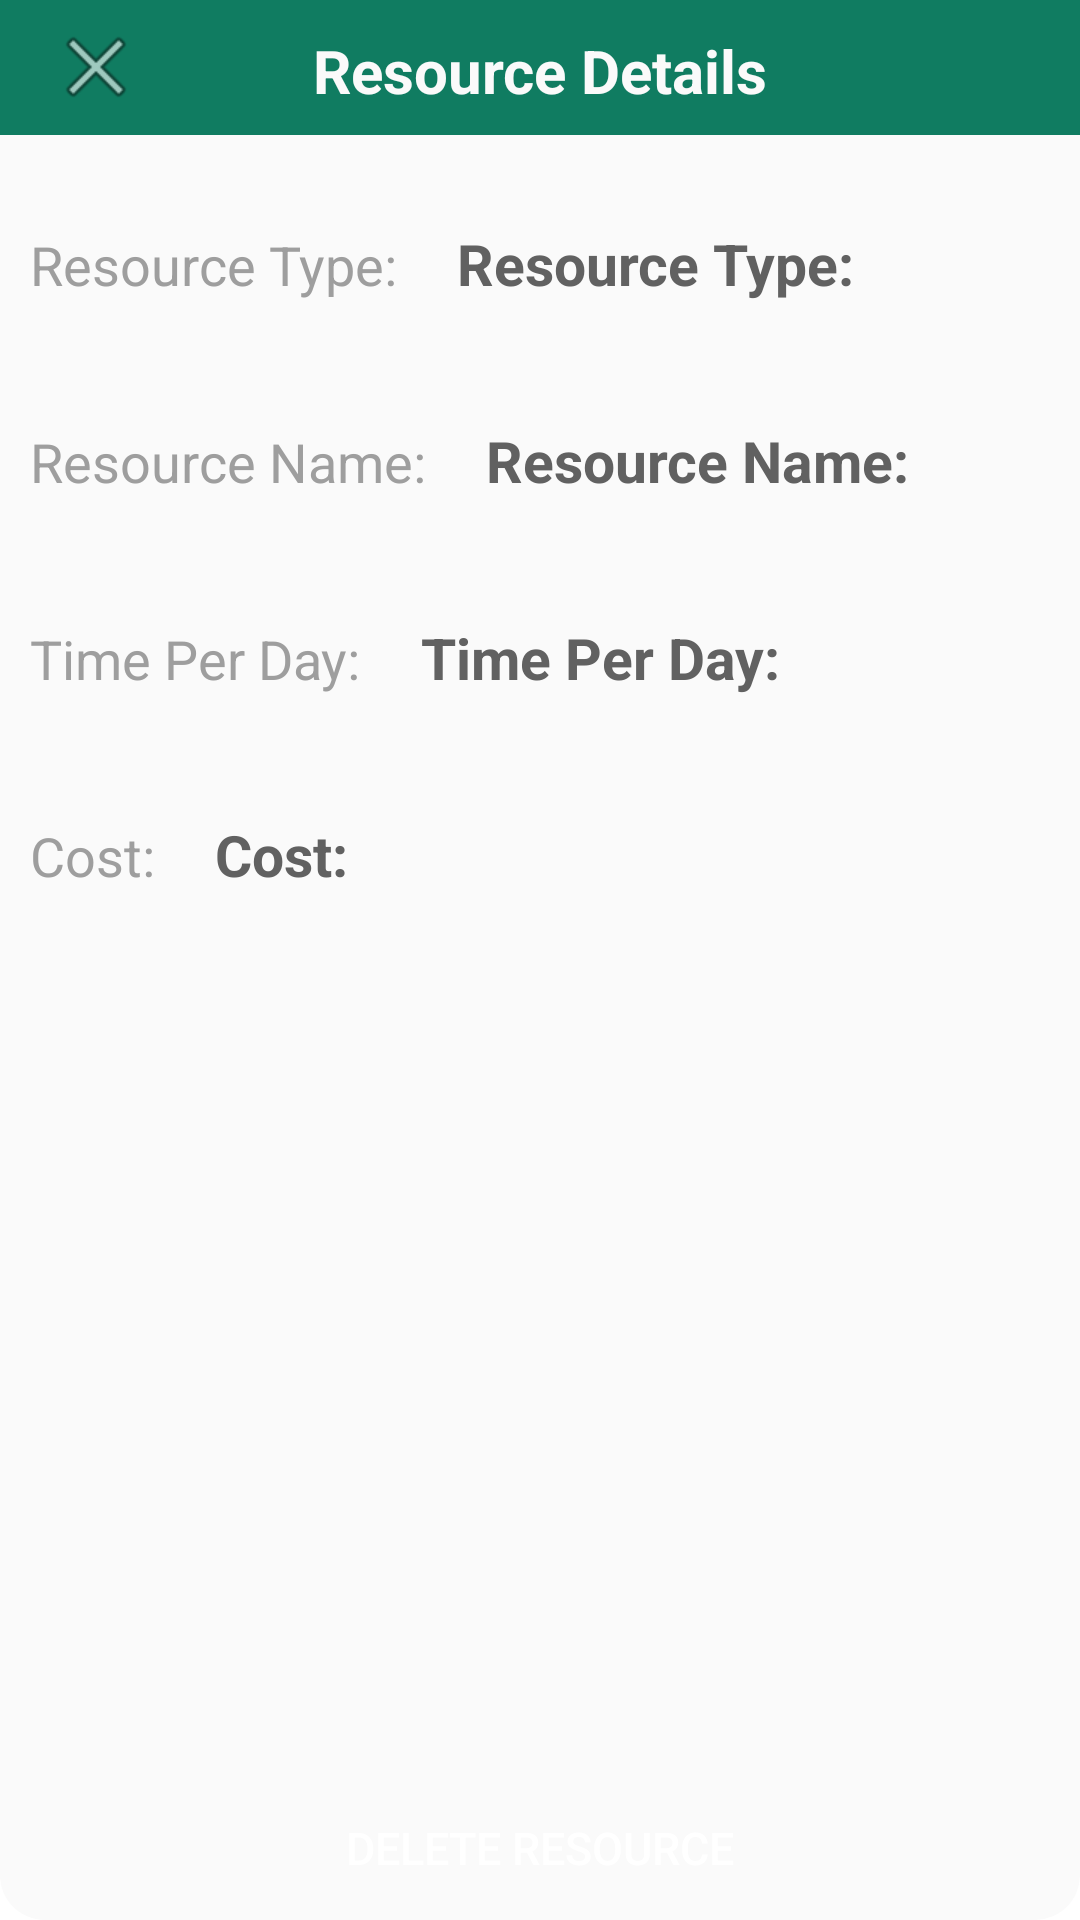

Screen size 1080*1920. Icon name, then its center in pixels as (x=x, y=y):
close clear cancel: (x=96, y=67)
